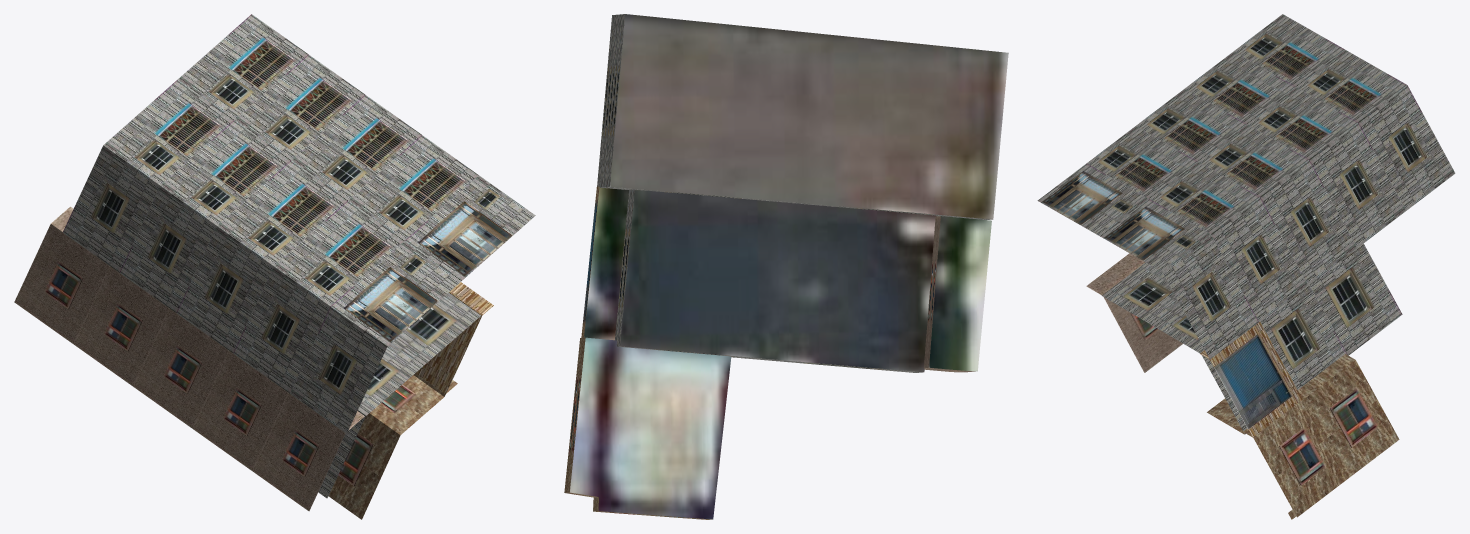
3 views of the same model, side by side, from view 1: azimuth 30°, elevation 25°; view 2: azimuth 150°, elevation 25°; view 3: azimuth 270°, elevation 25° (orthographic). The views are drawn at different scales.
Size of the model in its own units: 21.28 by 22.92 by 21.63.
Materials: 18 (18 with a texture image).
